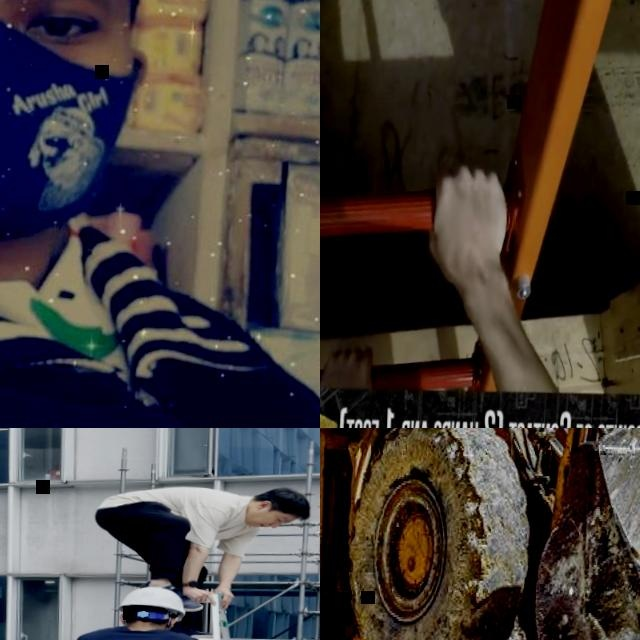Hardhat: (114, 584, 188, 618)
Mask: (0, 14, 144, 243)
NO-Hardhat: (267, 488, 312, 522)
NO-Mask: (247, 510, 271, 530)
NO-Safety Vest: (0, 241, 290, 428), (105, 483, 249, 538)
Person: (0, 0, 320, 428), (423, 164, 571, 394), (90, 480, 314, 617)
machinery: (320, 428, 640, 640)
